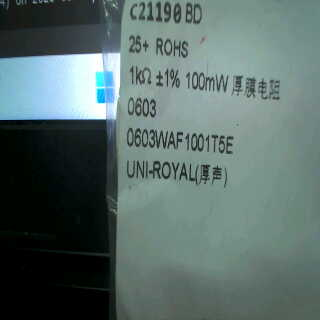1kR: (122, 60, 154, 91)
